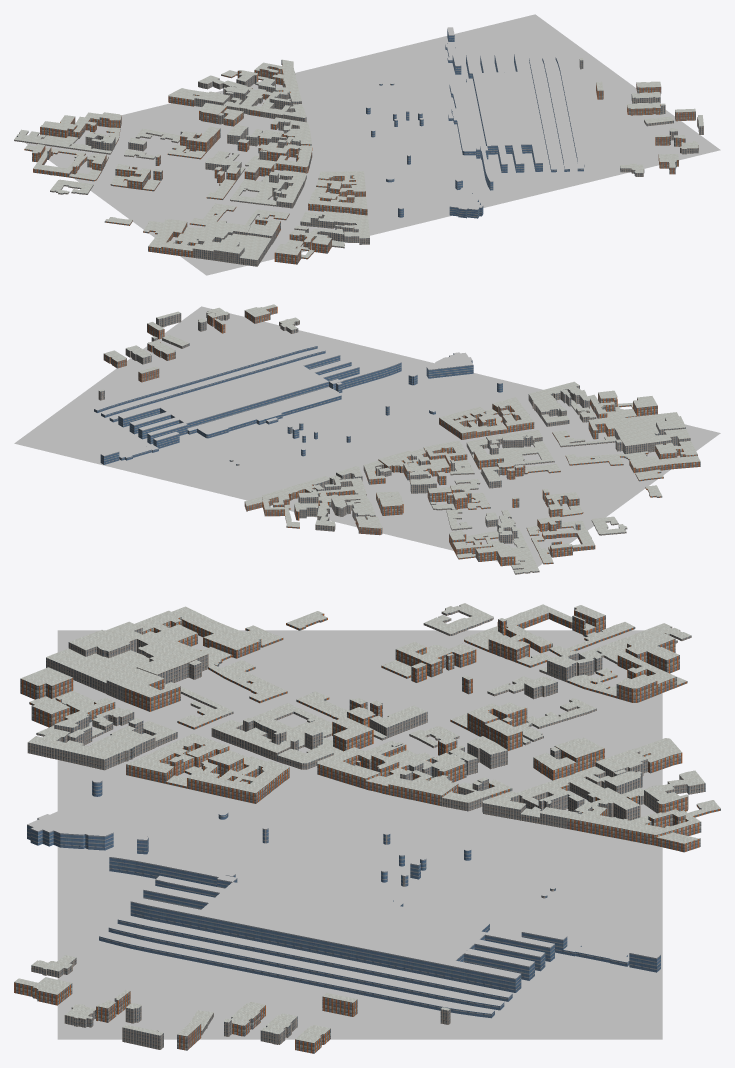
The model's file is pragueTrainStation.fbx.
The picture shows the model from 3 angles, top to bottom: view 1: azimuth 30°, elevation 25°; view 2: azimuth 150°, elevation 25°; view 3: azimuth 270°, elevation 25°; orthographic projection. The views are drawn at different scales.
Parts seen in each view (by area): view 1: EXPORT_GOOGLE_SAT_WM, Roof, Areas:building; view 2: EXPORT_GOOGLE_SAT_WM, Roof, Areas:building; view 3: EXPORT_GOOGLE_SAT_WM, Roof, Areas:building.
Boxes of the visible parts, x1,y1,x2,y2 form: EXPORT_GOOGLE_SAT_WM: (25,14,720,275); Roof: (14,27,703,259); Areas:building: (14,29,703,266); EXPORT_GOOGLE_SAT_WM: (14,306,720,566); Roof: (94,304,700,573); Areas:building: (94,306,700,574); EXPORT_GOOGLE_SAT_WM: (57,630,662,1039); Roof: (14,603,720,1042); Areas:building: (14,605,720,1053).
Bounding box in the file's own units: 134118 × 2400 × 89304.
